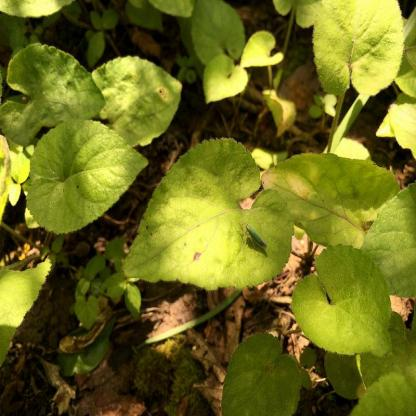Green-Leafhopper: (243, 221, 268, 251)
